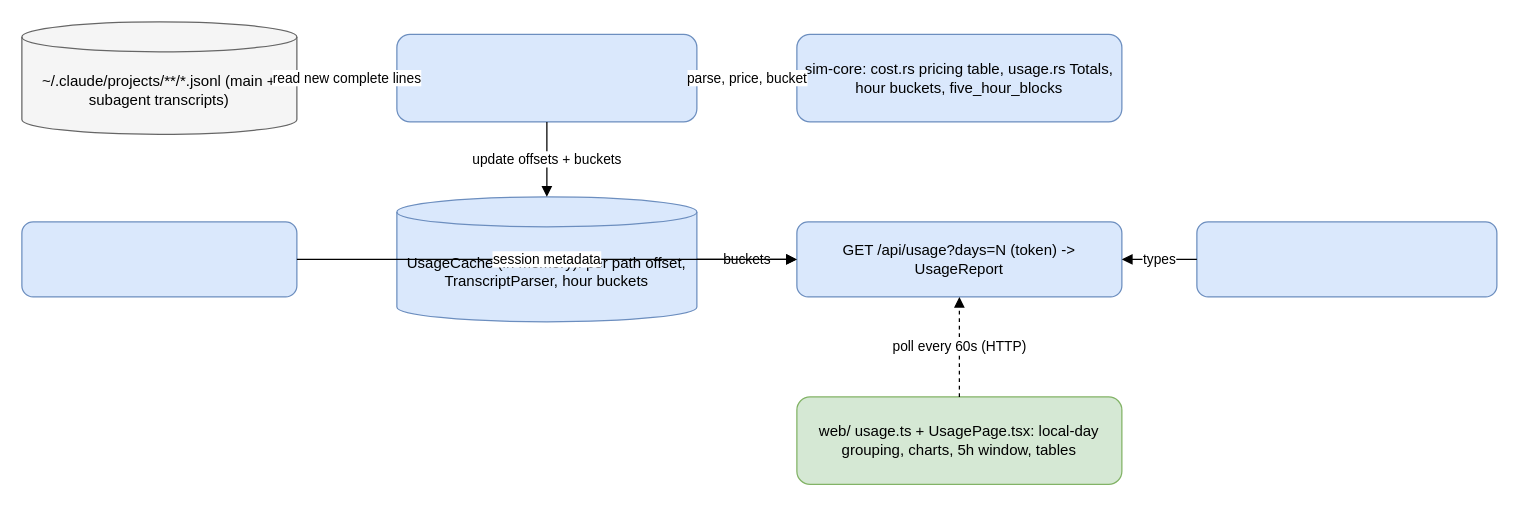
This 1519x506 diagram has some shape labels left out. The centre of each missing label's shape, as x and y in pixels:
"SessionCache (sessions.rs): project, cwd, title, live" belongs at point (159, 259).
"sim-protocol: UsageReport, SessionUsage, UsageBucket, UsageBlock" belongs at point (1346, 259).
"sim-server usage.rs: incremental scan (spawn_blocking)" belongs at point (546, 77).
